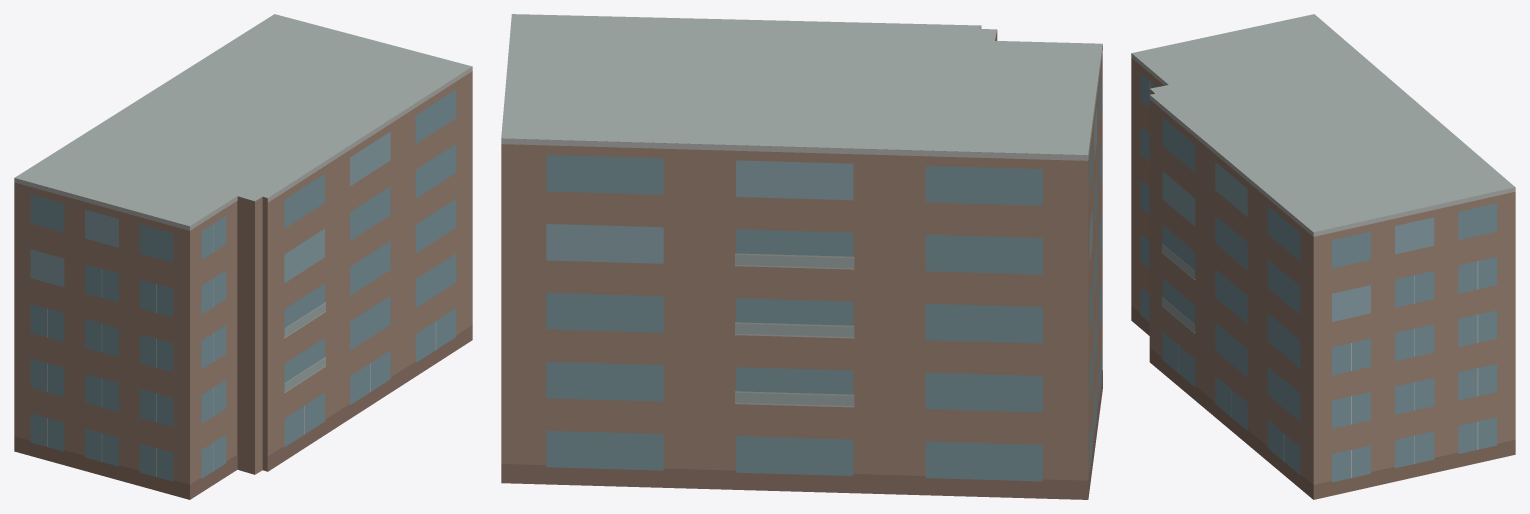
The model's file is survey-upis-32972195.glb.
3 views of the same model, side by side, from view 1: azimuth 30°, elevation 25°; view 2: azimuth 150°, elevation 25°; view 3: azimuth 270°, elevation 25° (orthographic). The views are drawn at different scales.
Visible parts, largest first — view 1: survey-upis-32972195.tmp; view 2: survey-upis-32972195.tmp; view 3: survey-upis-32972195.tmp.
Part boxes in pixels (x1,y1,x2,y2): survey-upis-32972195.tmp: (14,14,472,499); survey-upis-32972195.tmp: (501,14,1102,499); survey-upis-32972195.tmp: (1131,14,1515,499).
Bounding box in the file's own units: 25.76 × 14.7 × 19.14.
